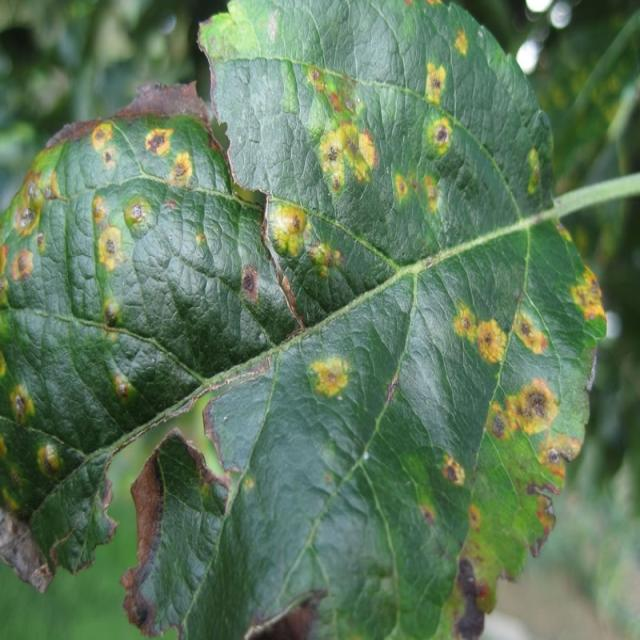Gymnosporangium_Rusts: (2, 1, 607, 637)
